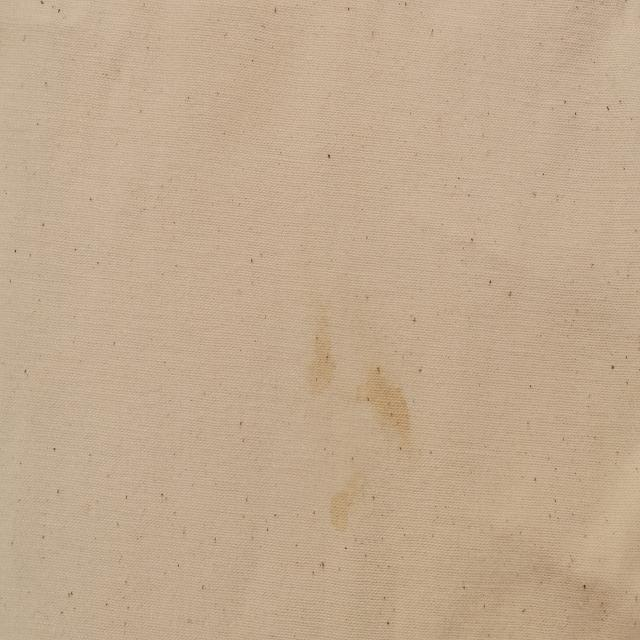taaaches: (356, 339, 414, 446), (302, 308, 340, 402), (326, 468, 364, 534)
